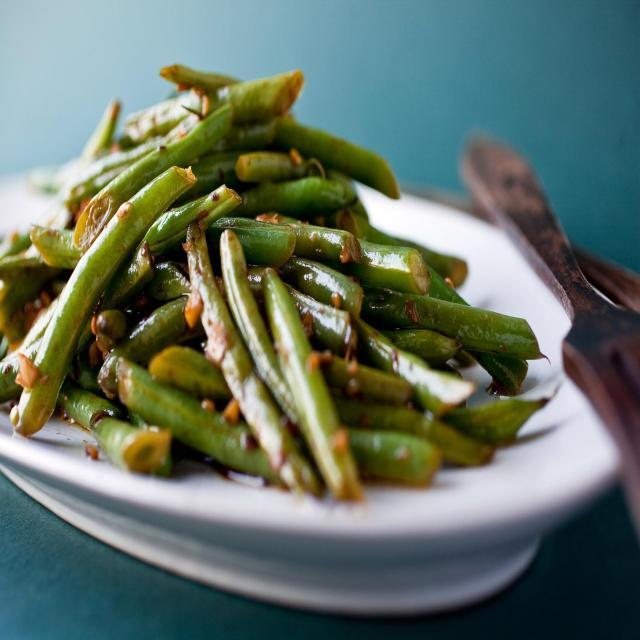Beans: (0, 47, 571, 507)
